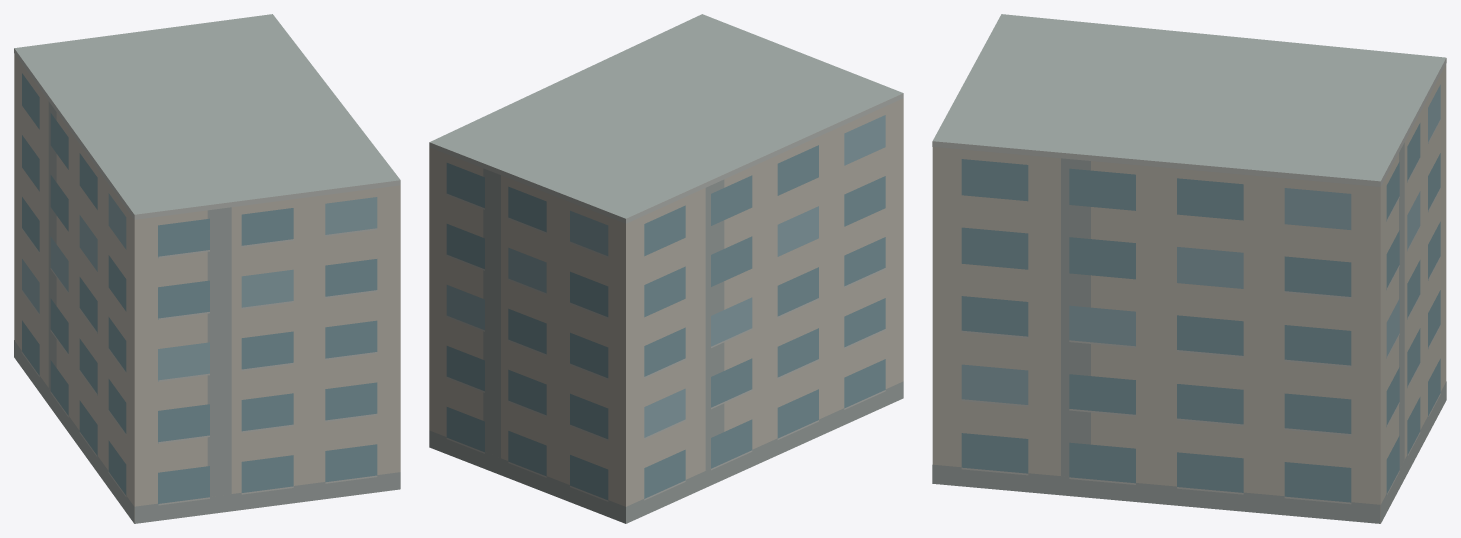
File: survey-upis-32861475.glb
3 renders of one model, left to right at view 1: azimuth 30°, elevation 25°; view 2: azimuth 150°, elevation 25°; view 3: azimuth 270°, elevation 25°, orthographic. The views are drawn at different scales.
Visible parts, largest first — view 1: survey-upis-32861475.tmp; view 2: survey-upis-32861475.tmp; view 3: survey-upis-32861475.tmp.
Boxes of the visible parts, bbox=[...] form: survey-upis-32861475.tmp: bbox=[14, 14, 400, 523]; survey-upis-32861475.tmp: bbox=[429, 14, 903, 523]; survey-upis-32861475.tmp: bbox=[932, 14, 1446, 523].
Bounding box in the file's own units: 15.51 × 14.8 × 20.14.
